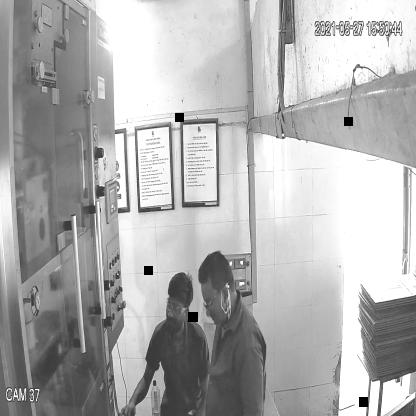goggles: (164, 295, 190, 316)
